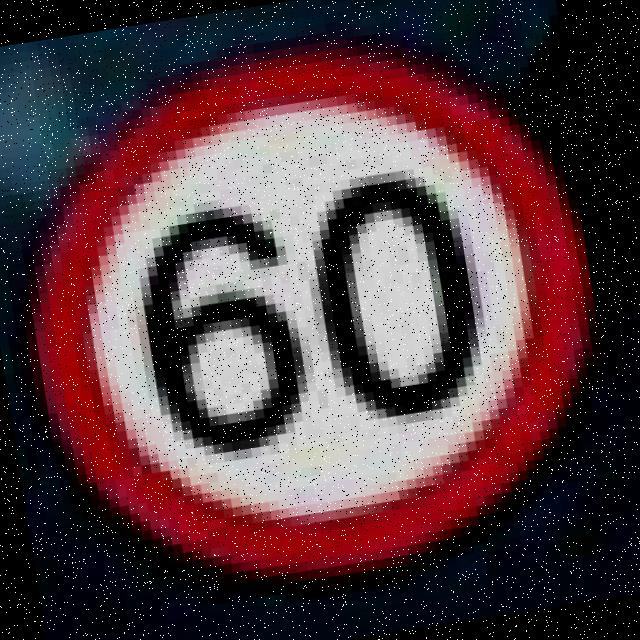Ograniczenie predkosci do 60: (0, 0, 621, 617)
